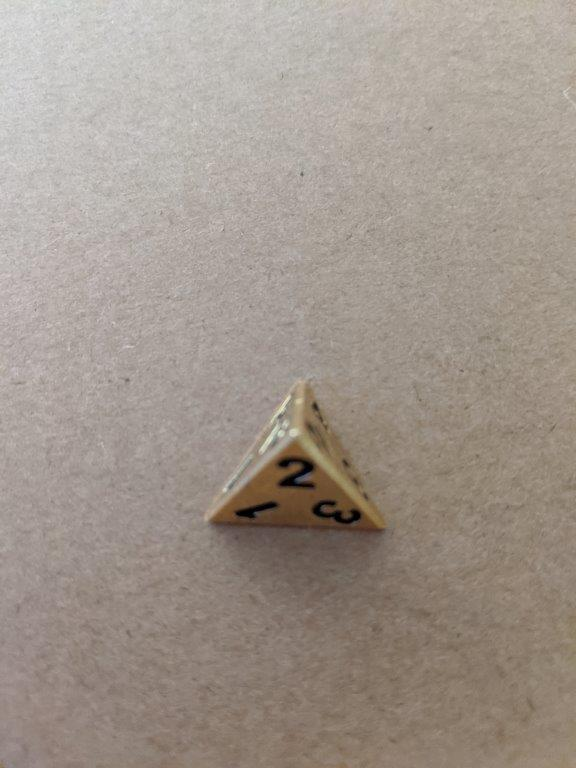d4-2: (194, 374, 390, 539)
